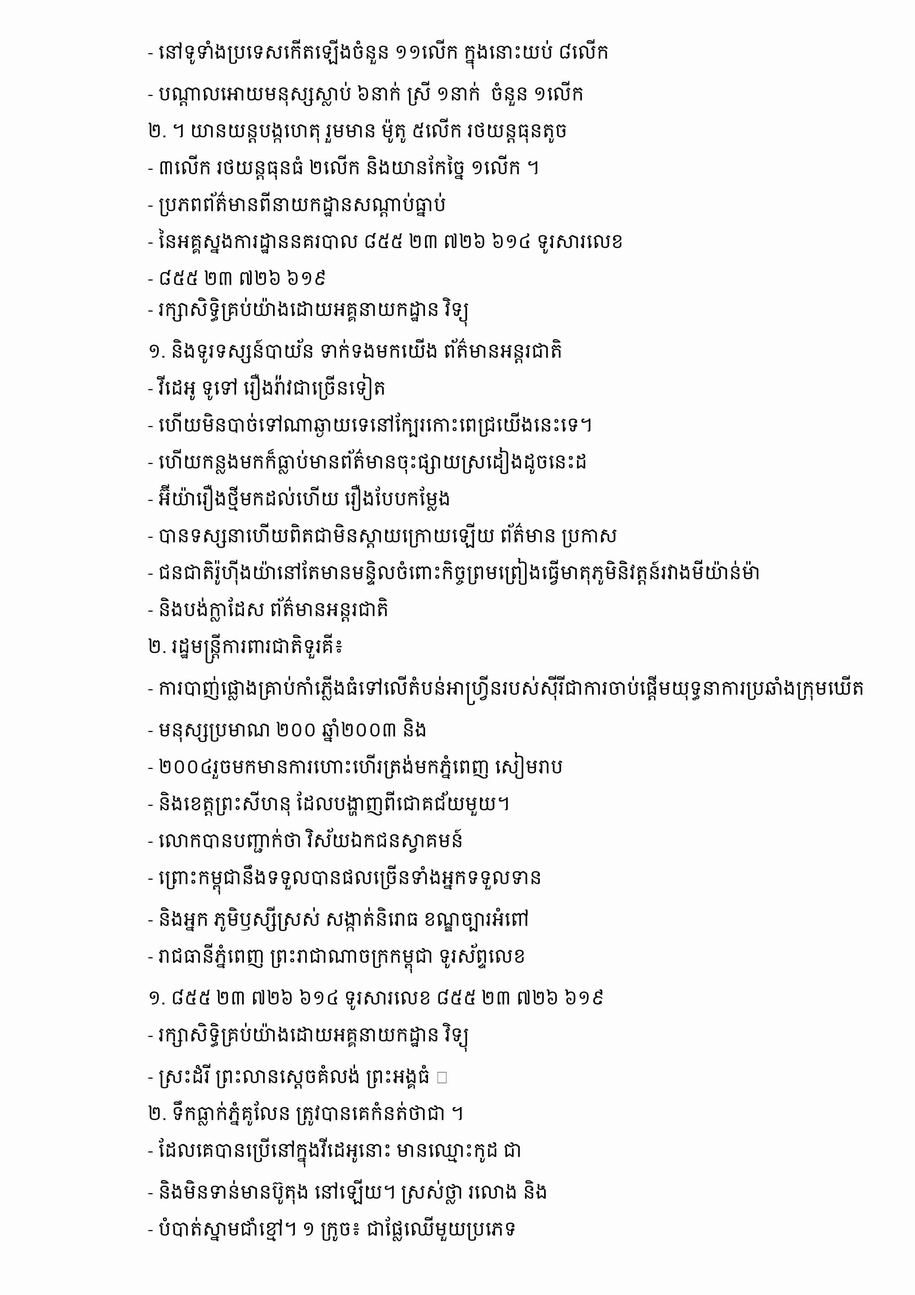text: (148, 675, 870, 705), (148, 558, 766, 585), (148, 39, 614, 69), (148, 522, 622, 548), (148, 229, 629, 254), (148, 447, 593, 474), (148, 865, 547, 895), (148, 1137, 527, 1168), (148, 943, 531, 973), (148, 752, 568, 779), (148, 412, 597, 437), (148, 81, 589, 106), (148, 338, 567, 364), (148, 118, 572, 143), (148, 1179, 553, 1205), (148, 906, 534, 932), (148, 155, 544, 180), (148, 297, 474, 327), (148, 989, 609, 1010), (148, 1023, 474, 1052), (148, 1216, 521, 1241), (148, 791, 515, 816), (148, 1100, 469, 1126), (148, 484, 456, 511), (148, 828, 468, 853), (148, 191, 451, 217), (148, 1064, 453, 1089), (148, 718, 432, 742), (148, 373, 391, 401), (148, 596, 394, 622), (148, 633, 349, 664), (148, 269, 332, 285)
